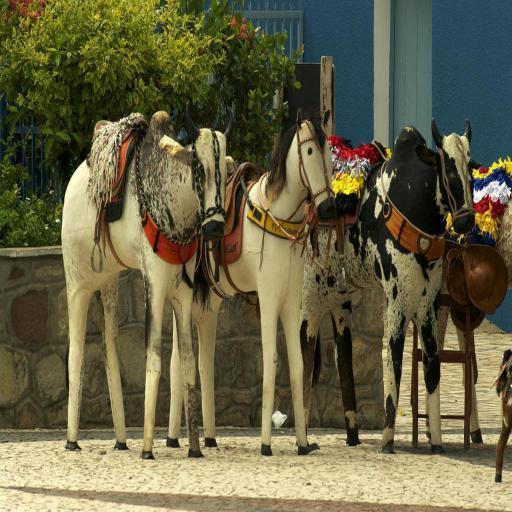horse: (166, 106, 338, 458)
